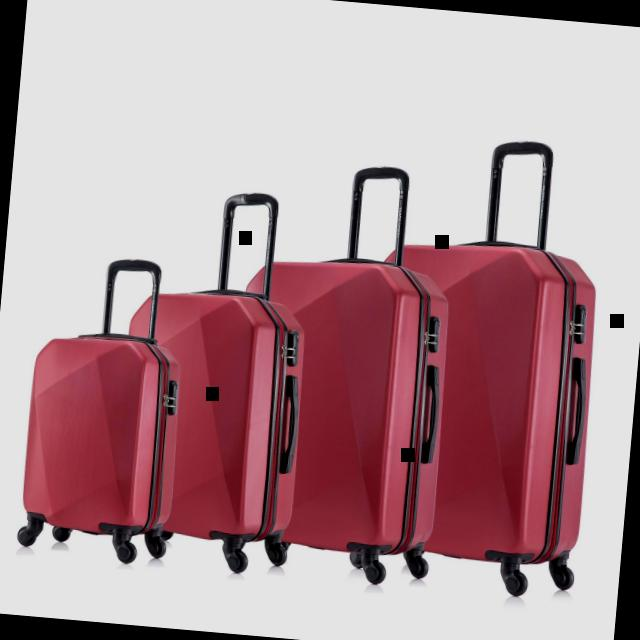luggage: (348, 222, 612, 608), (213, 240, 463, 594), (100, 272, 320, 580), (2, 314, 194, 568)
